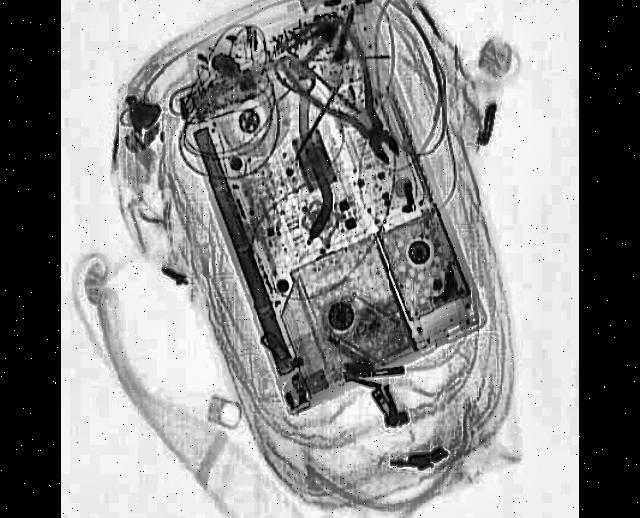Pliers: (276, 0, 419, 194)
